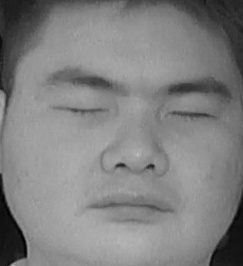blink: (166, 98, 219, 132), (54, 93, 111, 124)
mouth: (84, 181, 179, 232)
